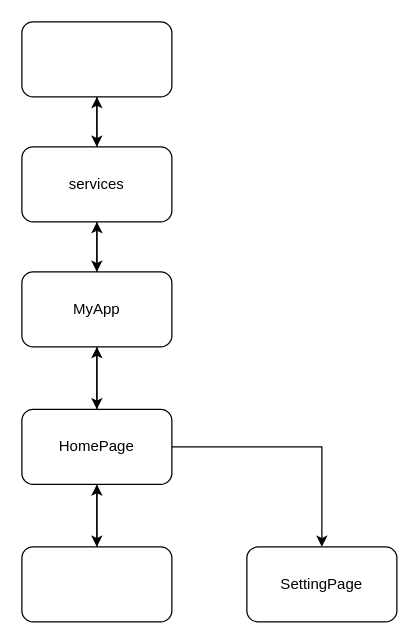
Some shapes in this 419 by 644 pixel diagram are drawn without their labels. The box of each missing label's shape, as (x1, y1, x2, y2) in pixels:
DeckPage: (21, 546, 172, 622)
Server: (21, 21, 172, 97)
